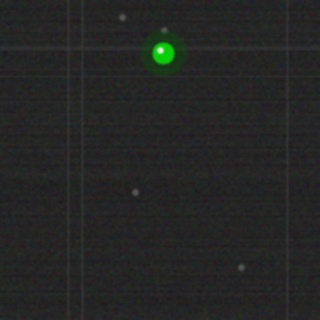green_normal: (150, 40, 176, 66)
